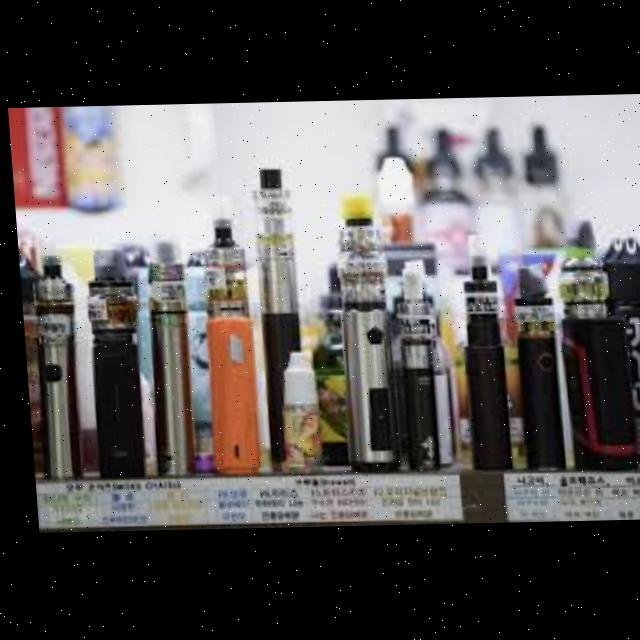vape: (328, 192, 398, 478), (549, 251, 629, 475), (245, 168, 303, 475), (192, 217, 257, 476), (79, 251, 140, 480), (508, 268, 571, 476), (455, 244, 510, 476), (140, 240, 192, 477), (25, 254, 78, 485), (384, 267, 439, 472)
